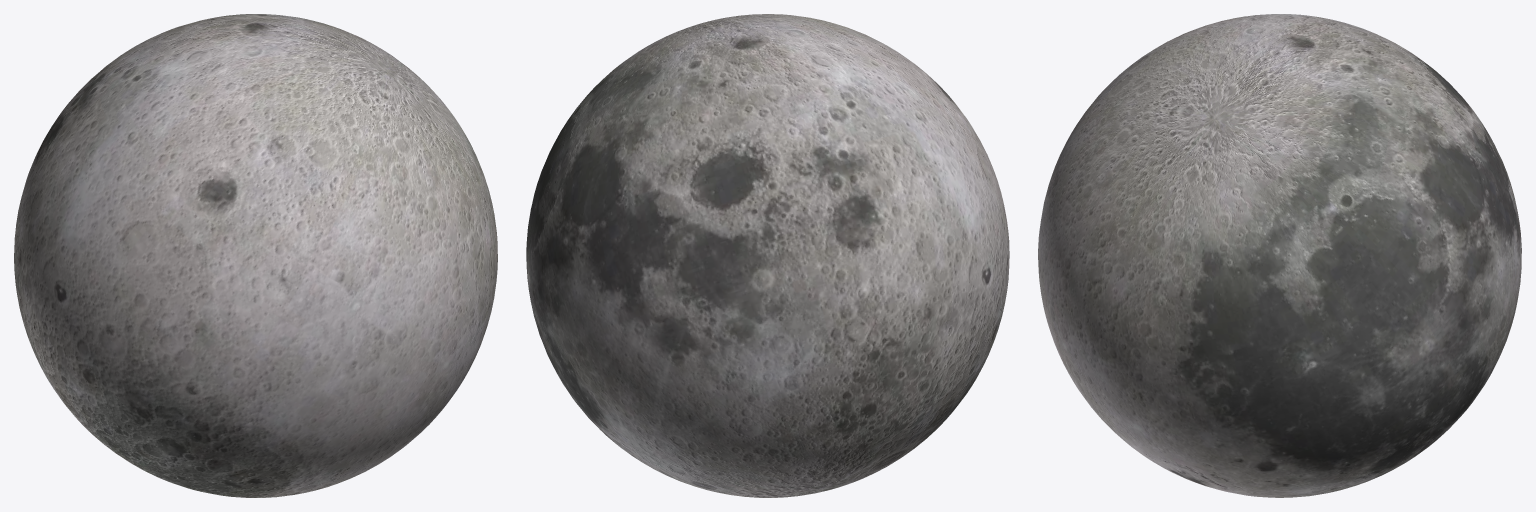
File: moon.glb
3 views of the same model, side by side, from view 1: azimuth 30°, elevation 25°; view 2: azimuth 150°, elevation 25°; view 3: azimuth 270°, elevation 25° (orthographic).
Visible parts, largest first — view 1: Sphere; view 2: Sphere; view 3: Sphere.
Part boxes in pixels (x1=…): Sphere: x1=14, y1=14, x2=497, y2=497; Sphere: x1=526, y1=14, x2=1009, y2=497; Sphere: x1=1038, y1=14, x2=1521, y2=497.
Bounding box in the file's own units: 2 × 2 × 2.
1 material, 1 textured.
